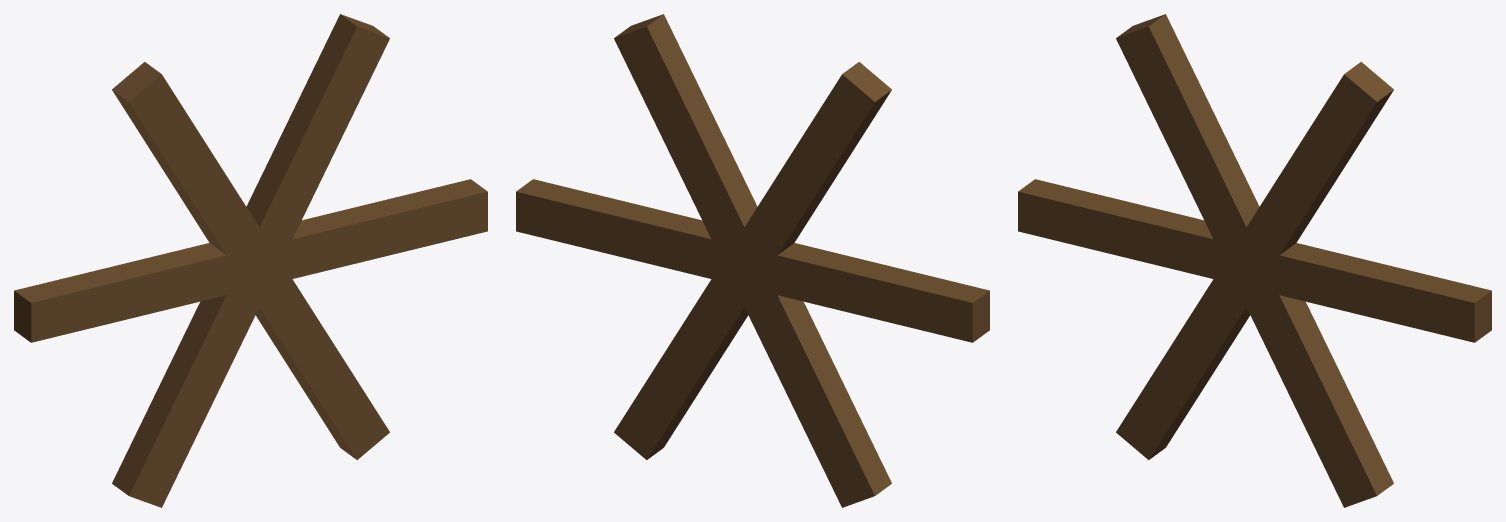
The model's file is Symbol_C_Radial.fbx.
3 views of the same model, side by side, from view 1: azimuth 30°, elevation 25°; view 2: azimuth 150°, elevation 25°; view 3: azimuth 330°, elevation 25° (orthographic).
Visible parts, largest first — view 1: Symbol_C_Radial; view 2: Symbol_C_Radial; view 3: Symbol_C_Radial.
Boxes of the visible parts, x1,y1,x2,y2 form: Symbol_C_Radial: [14, 14, 487, 507]; Symbol_C_Radial: [516, 14, 989, 507]; Symbol_C_Radial: [1018, 14, 1491, 507].
Size of the model in its own units: 0.54 by 0.4902 by 0.035.
